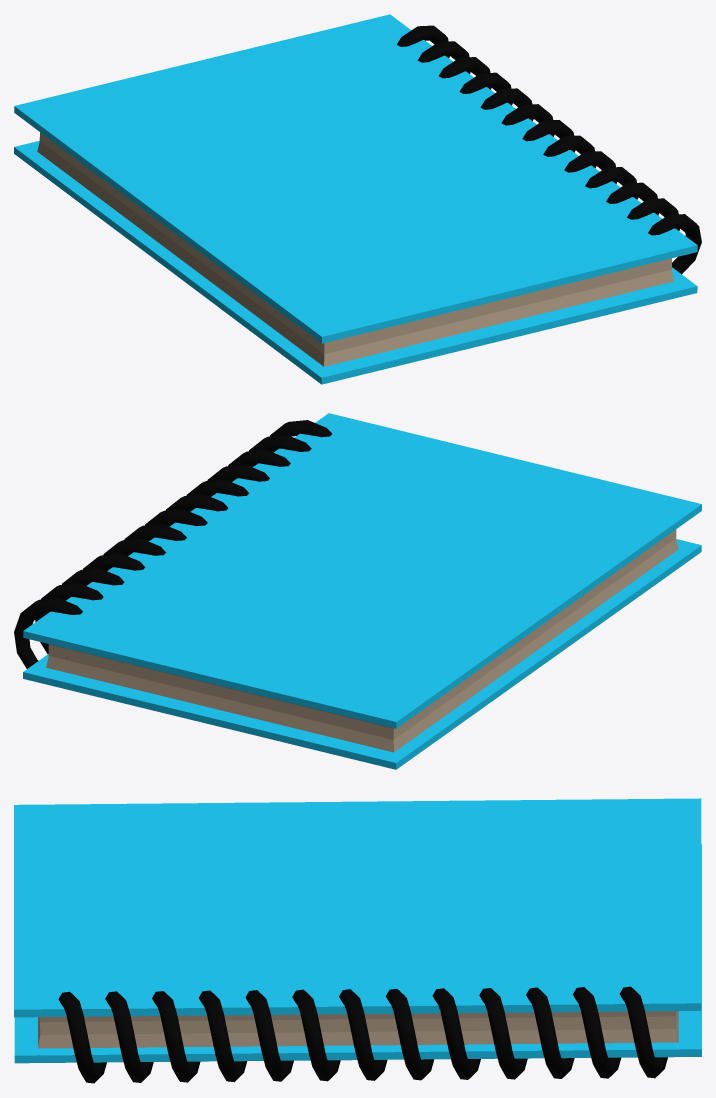
File: SM_Book_02.fbx
3 renders of one model, top to bottom at view 1: azimuth 30°, elevation 25°; view 2: azimuth 150°, elevation 25°; view 3: azimuth 270°, elevation 25°, orthographic. The views are drawn at different scales.
Parts seen in each view (by area): view 1: SM_Book_02; view 2: SM_Book_02; view 3: SM_Book_02.
Part boxes in pixels (bbox=[...]): SM_Book_02: bbox=[14, 14, 701, 384]; SM_Book_02: bbox=[14, 413, 701, 769]; SM_Book_02: bbox=[14, 798, 701, 1083].
Size of the model in its own units: 109 by 20.18 by 142.
